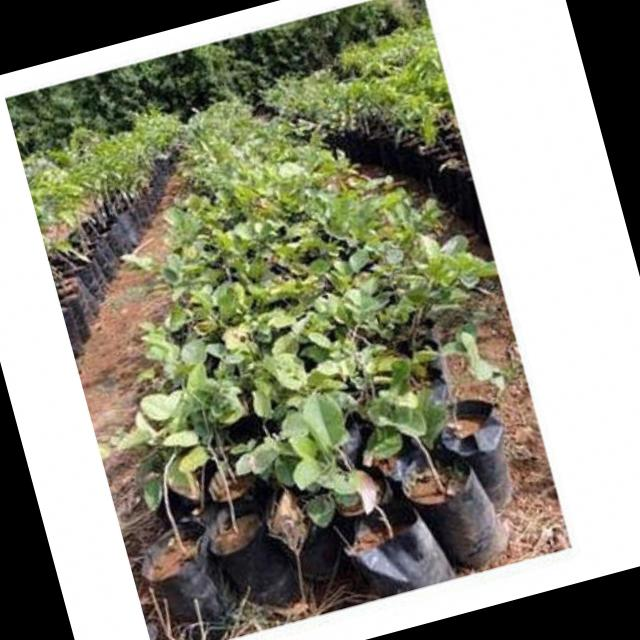Medicinal-Sandalwood: (60, 51, 521, 528)
